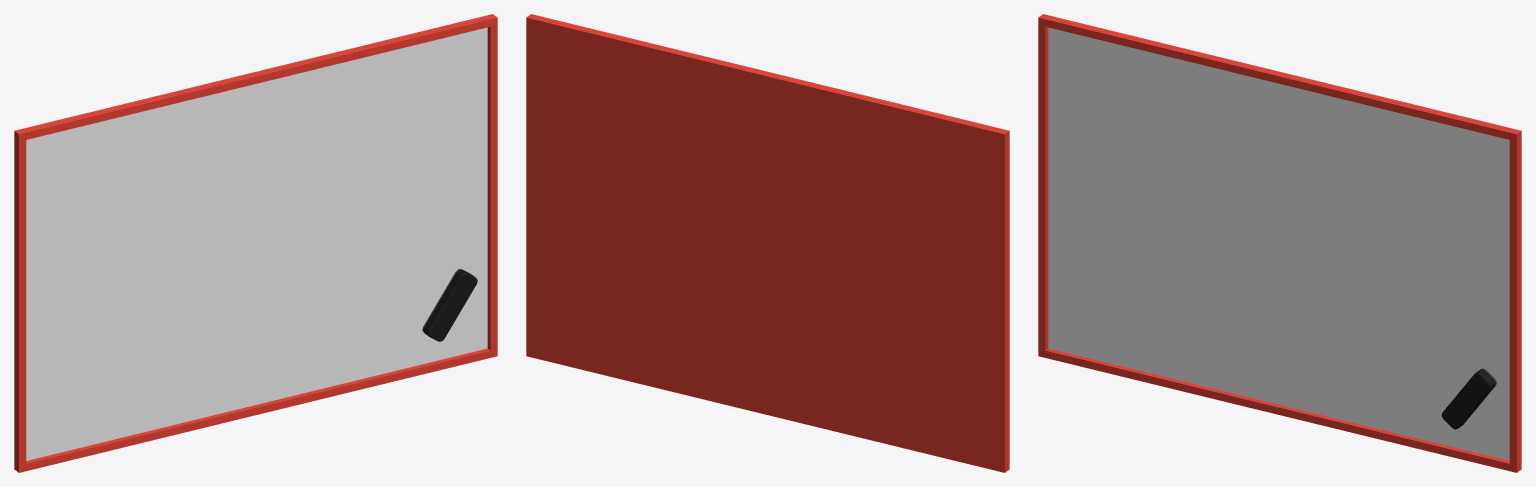
Rendered from whiteboard.glb.
3 renders of one model, left to right at view 1: azimuth 30°, elevation 25°; view 2: azimuth 150°, elevation 25°; view 3: azimuth 330°, elevation 25°, orthographic.
Visible parts, largest first — view 1: whiteboard; view 2: whiteboard; view 3: whiteboard.
Boxes of the visible parts, box(x1,y1,x2,y2) form: whiteboard: box(14, 14, 497, 472); whiteboard: box(526, 14, 1009, 472); whiteboard: box(1038, 14, 1521, 472).
Size of the model in its own units: 1.78 by 1.2 by 0.0529.
